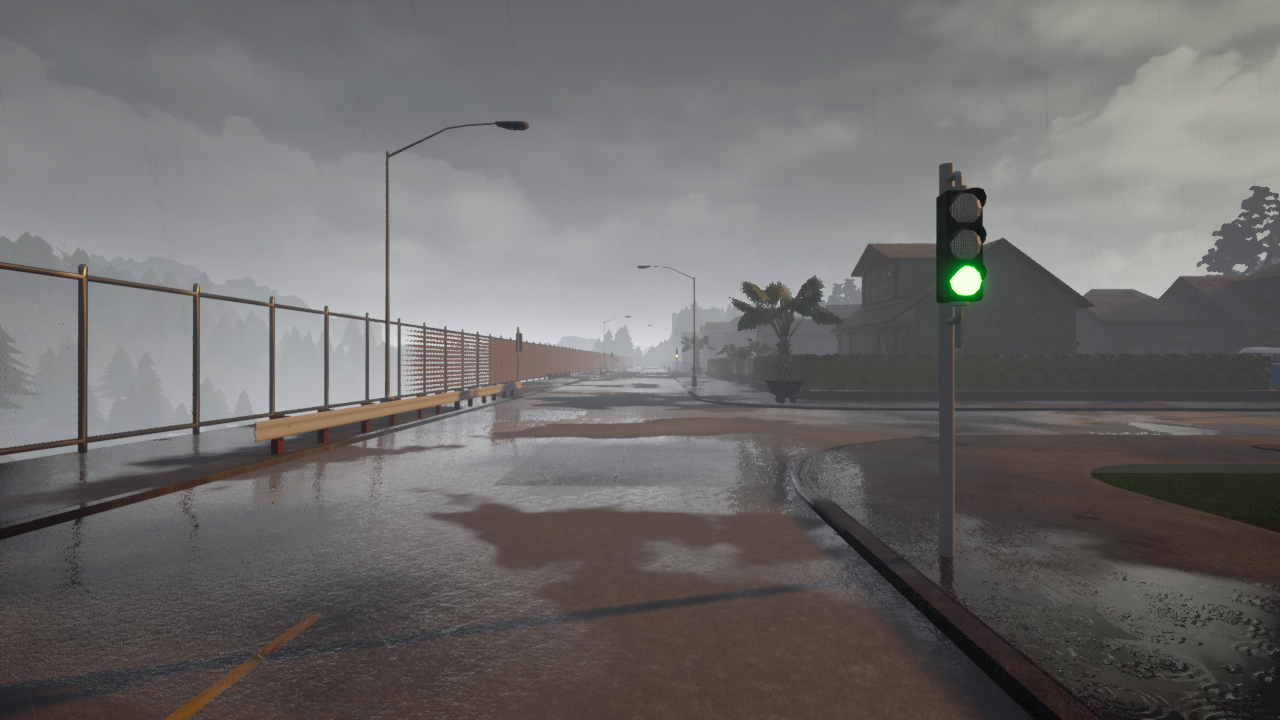green: (933, 184, 993, 307)
